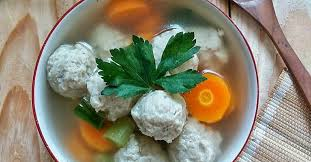bakso: (54, 9, 231, 155)
